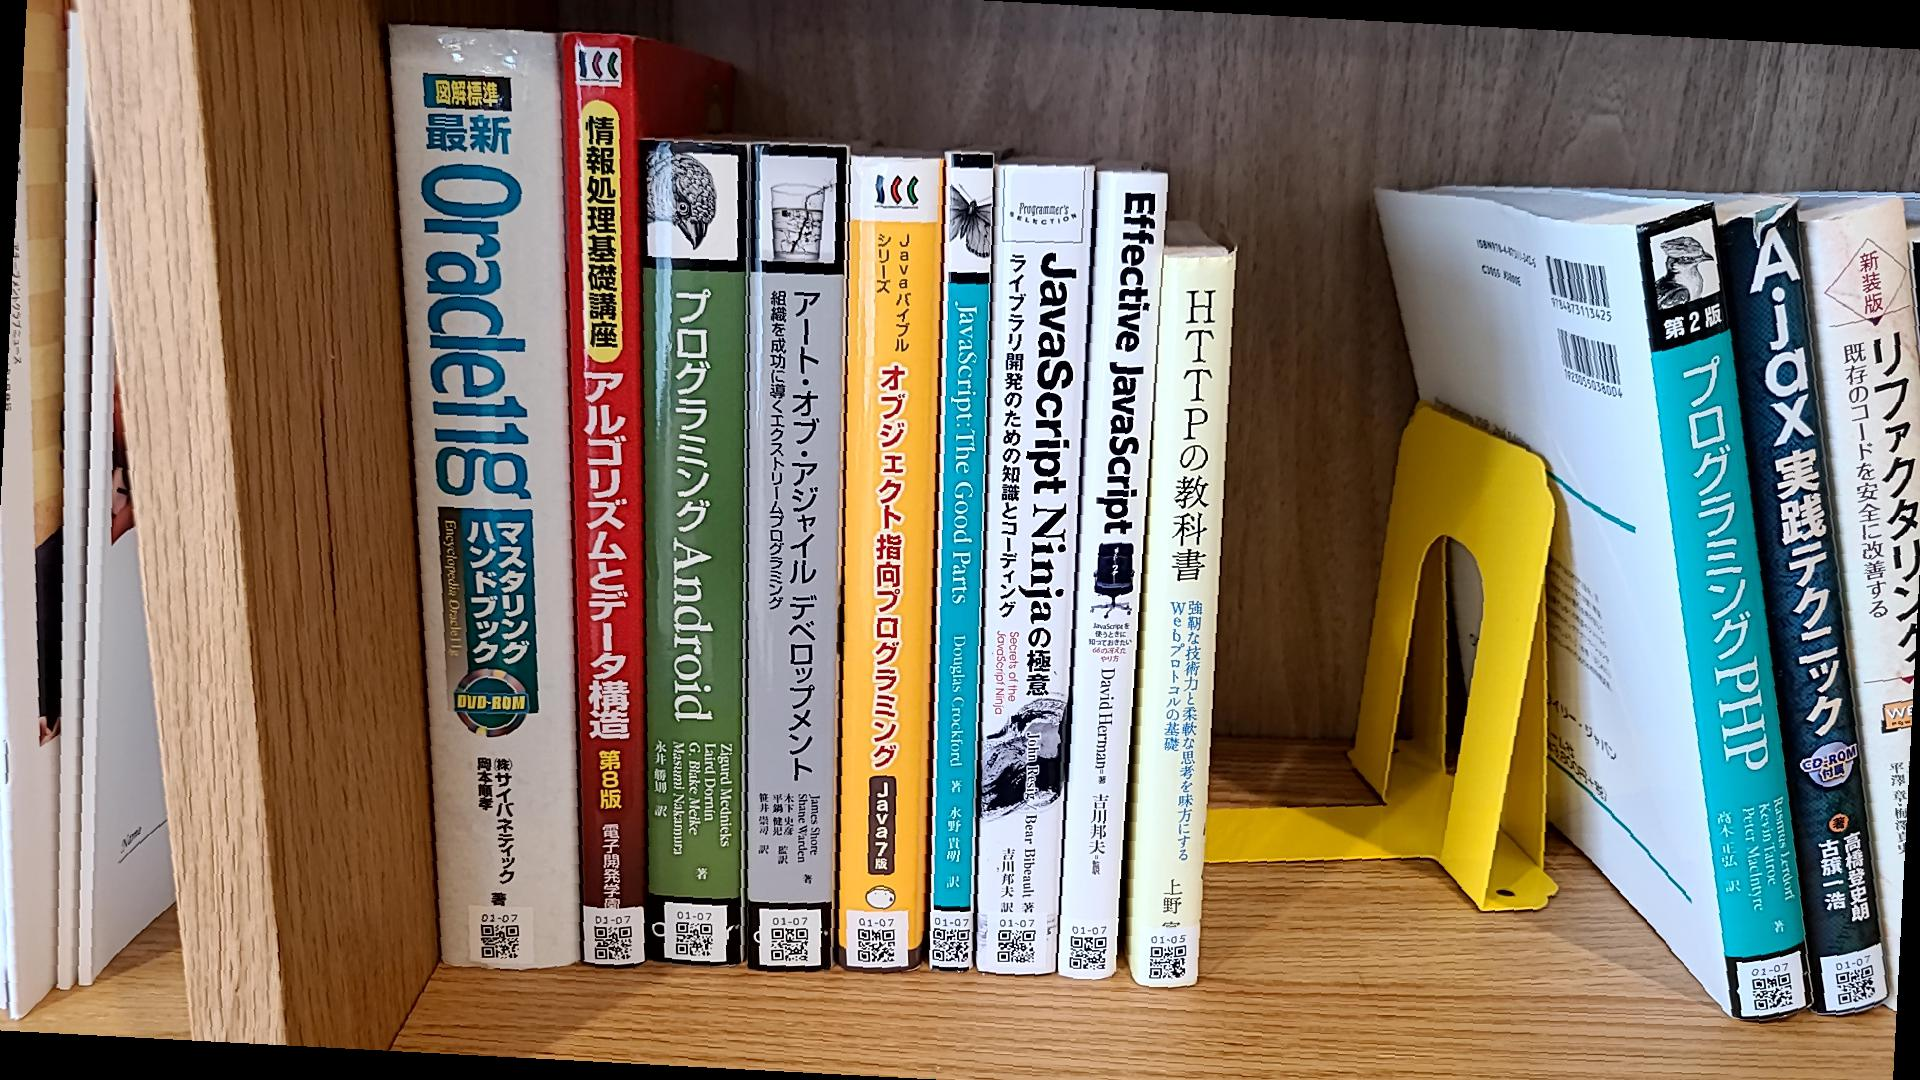book: (392, 18, 574, 971), (640, 128, 748, 976), (556, 22, 650, 971), (741, 131, 844, 976), (840, 153, 944, 980), (988, 164, 1087, 977), (1071, 164, 1164, 980), (1149, 251, 1232, 992), (934, 146, 996, 977)
